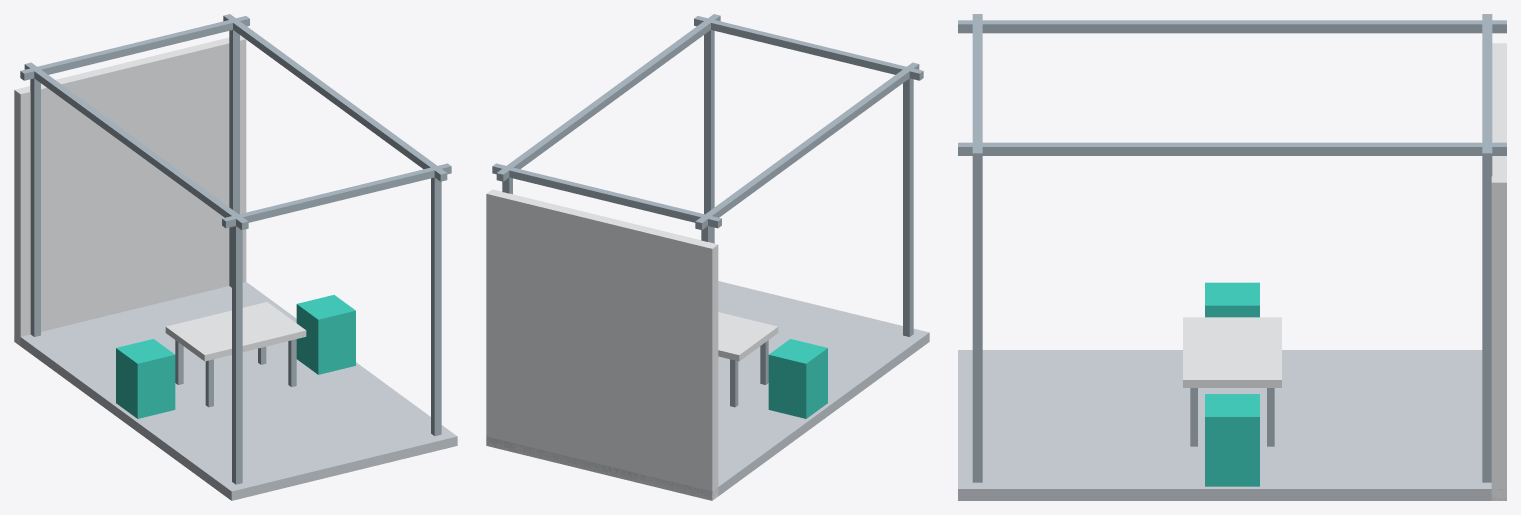
3 renders of one model, left to right at view 1: azimuth 30°, elevation 25°; view 2: azimuth 150°, elevation 25°; view 3: azimuth 270°, elevation 25°, orthographic. The views are drawn at different scales.
Visible parts, largest first — view 1: Exhibition Booth Concept; view 2: Exhibition Booth Concept; view 3: Exhibition Booth Concept.
Boxes of the visible parts, x1,y1,x2,y2 form: Exhibition Booth Concept: (14,14,457,500); Exhibition Booth Concept: (486,14,929,500); Exhibition Booth Concept: (958,14,1506,500).
Bounding box in the file's own units: 3 × 3.49 × 5.
